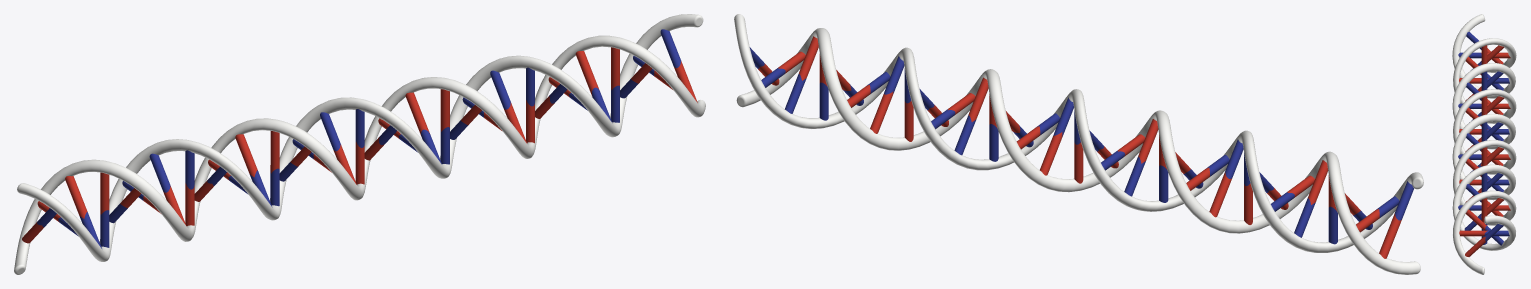
The model's file is dnacolor.dae.
3 views of the same model, side by side, from view 1: azimuth 30°, elevation 25°; view 2: azimuth 150°, elevation 25°; view 3: azimuth 270°, elevation 25° (orthographic). The views are drawn at different scales.
Parts seen in each view (by area): view 1: Body2_Plastic_-_Matte_(White), Body1_Plastic_-_Matte_(White), Body1_Plastic_-_Matte_(Red); view 2: Body2_Plastic_-_Matte_(White), Body1_Plastic_-_Matte_(White); view 3: Body1_Plastic_-_Matte_(White), Body2_Plastic_-_Matte_(White), Body1_Plastic_-_Matte_(Red) (×25), Body1_Plastic_-_Matte_(Blue) (×24).
Boxes of the visible parts, x1,y1,x2,y2 form: Body2_Plastic_-_Matte_(White): (14,35,705,274); Body1_Plastic_-_Matte_(White): (17,14,703,261); Body1_Plastic_-_Matte_(Red): (235,134,257,177); Body2_Plastic_-_Matte_(White): (736,28,1420,274); Body1_Plastic_-_Matte_(White): (734,14,1423,252); Body1_Plastic_-_Matte_(White): (1452,14,1515,250); Body2_Plastic_-_Matte_(White): (1453,38,1516,274); Body1_Plastic_-_Matte_(Red) (×25): (1459,45,1510,256); Body1_Plastic_-_Matte_(Blue) (×24): (1458,32,1509,245).
Bounding box in the file's own units: 0.6065 × 0.0799 × 0.08.
